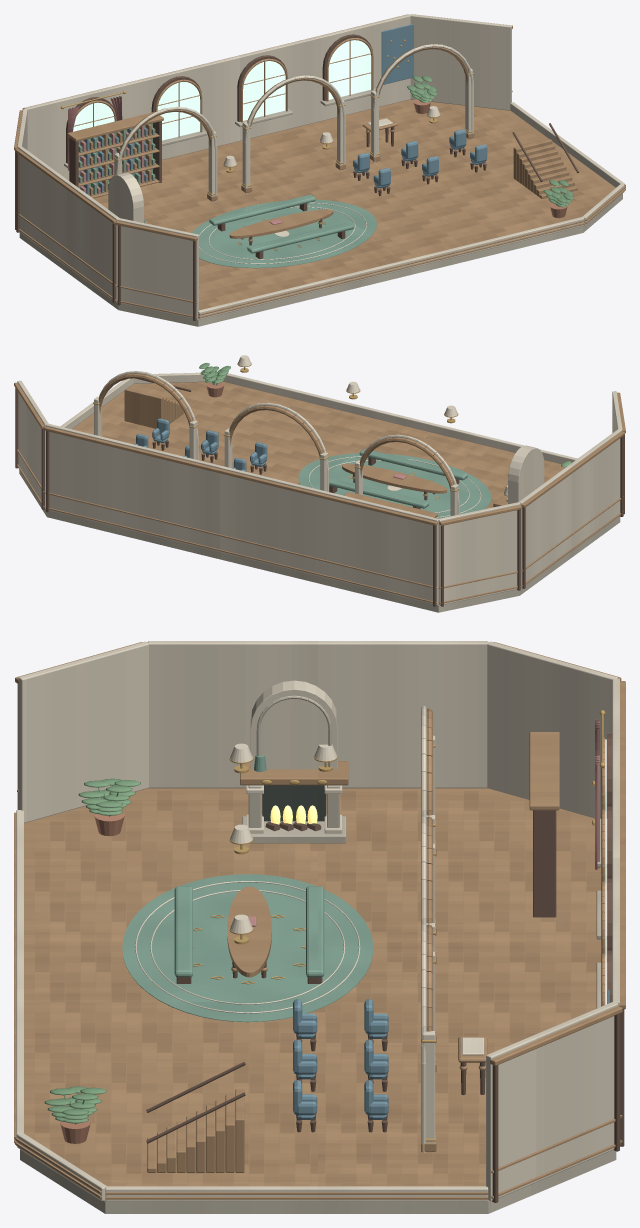
Rendered from public-hall.glb.
3 views of the same model, one above another, from view 1: azimuth 30°, elevation 25°; view 2: azimuth 150°, elevation 25°; view 3: azimuth 270°, elevation 25° (orthographic). The views are drawn at different scales.
Parts seen in each view (by area): view 1: Forest hamlet; view 2: Forest hamlet; view 3: Forest hamlet.
Boxes of the visible parts, x1,y1,x2,y2 form: Forest hamlet: [14, 14, 625, 326]; Forest hamlet: [14, 355, 625, 612]; Forest hamlet: [14, 641, 625, 1213].
Size of the model in its own units: 23.38 by 5 by 14.37.
18 materials, 18 textured.
